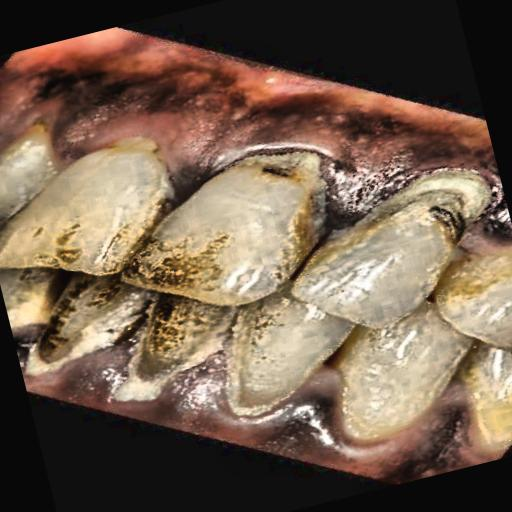Calculus: (17, 163, 512, 470), (118, 123, 342, 243)
